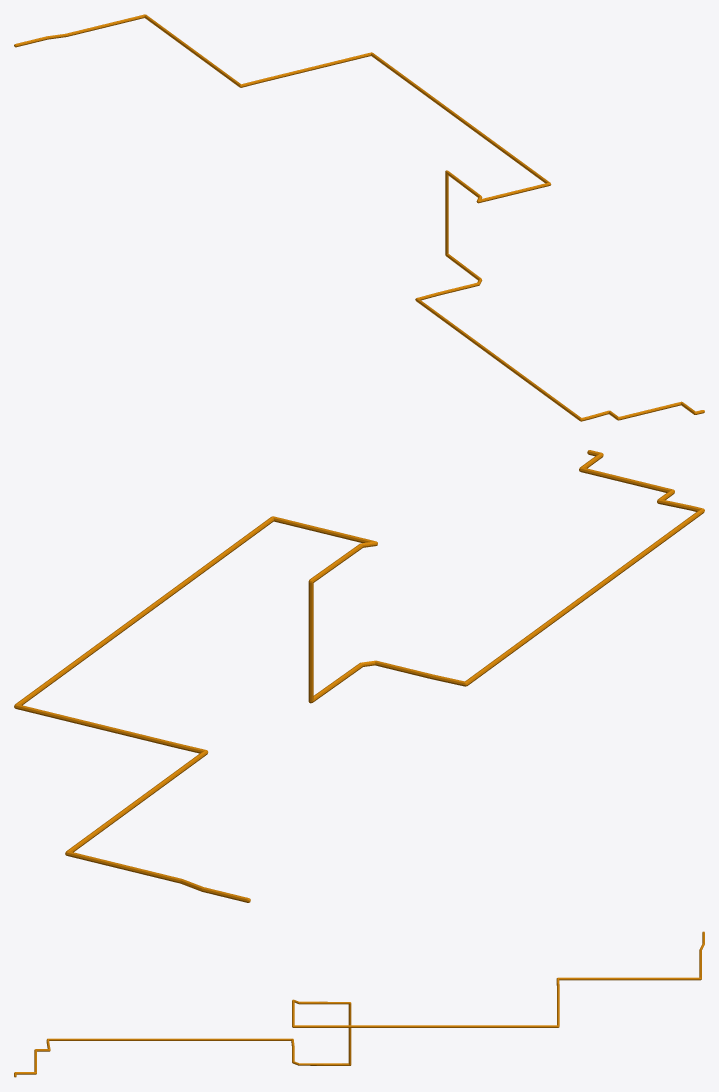
3 renders of one model, top to bottom at view 1: azimuth 30°, elevation 25°; view 2: azimuth 150°, elevation 25°; view 3: azimuth 270°, elevation 25°, orthographic. The views are drawn at different scales.
Bounding box in the file's own units: 1656 × 520 × 5088.
